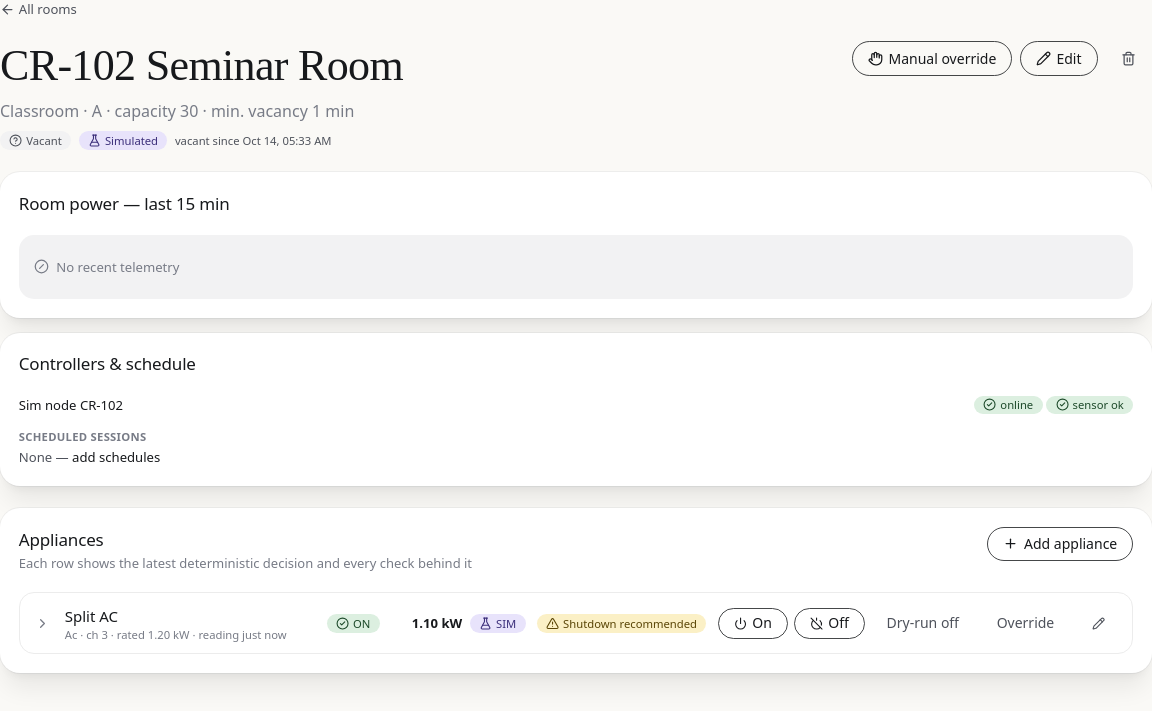
it: room detail › explains the decision with every check
expect the text "Split AC" is shown: met, box top-left (65, 606), bottom-right (118, 626)
expect the text "Shutdown recommended" is shown: met, box top-left (537, 614), bottom-right (706, 633)
What coordinates should you click on to do the following:
click the button named "show decision checks for split ac"
I would click on:
 (42, 623)
Its box is top-left (31, 612), bottom-right (54, 635).
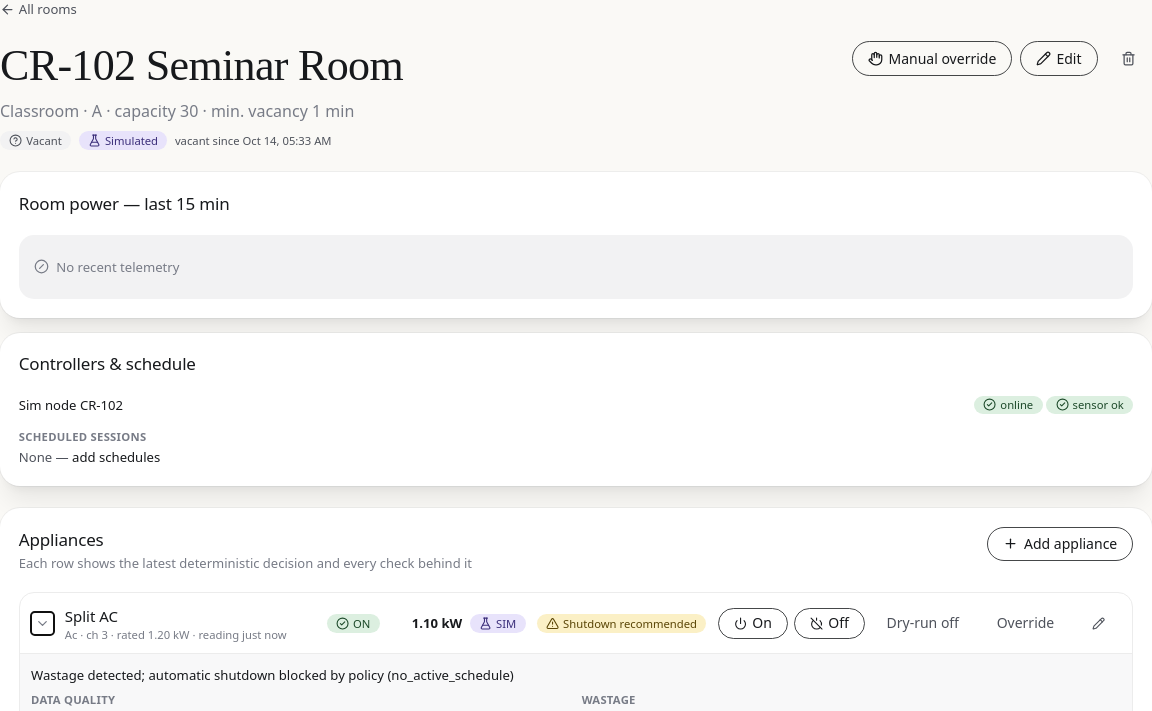
expect the text "automatic shutdown blocked by policy" is shown: met, box top-left (31, 666), bottom-right (514, 684)
